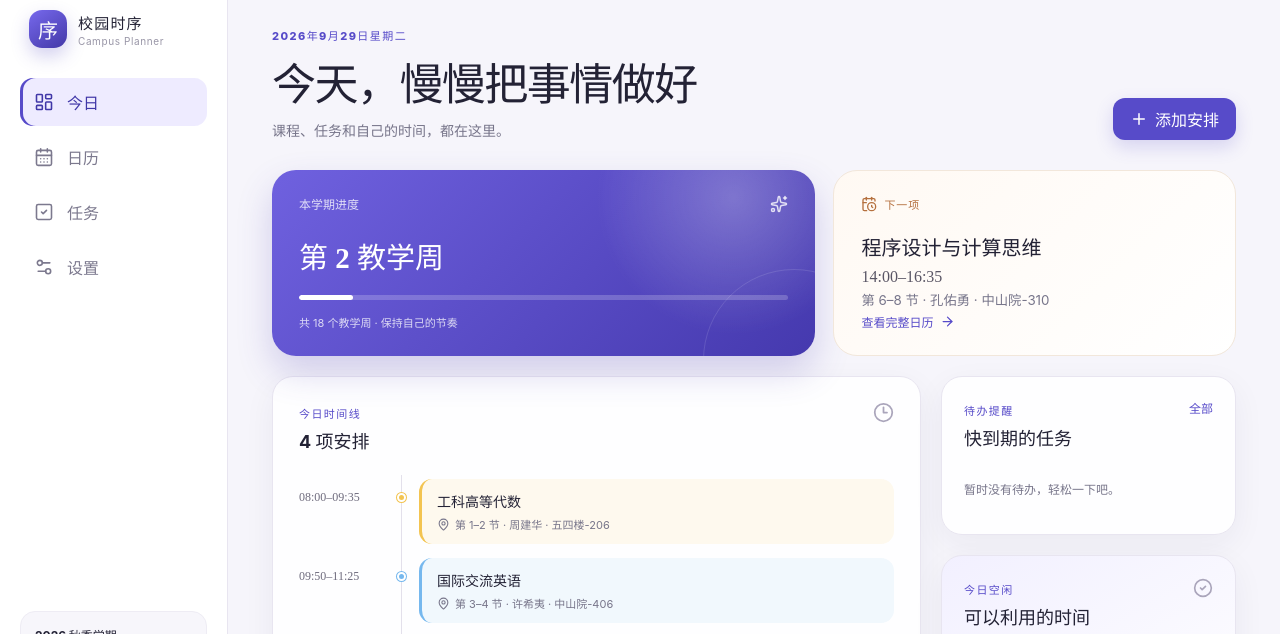
Test: 校园时间管理界面 › 新增个人安排后出现在今天时间线
Expected: the text "第 2 教学周" is shown, [299, 242, 444, 274]
Click the button "添加安排": (1174, 119) [1113, 98, 1236, 140]
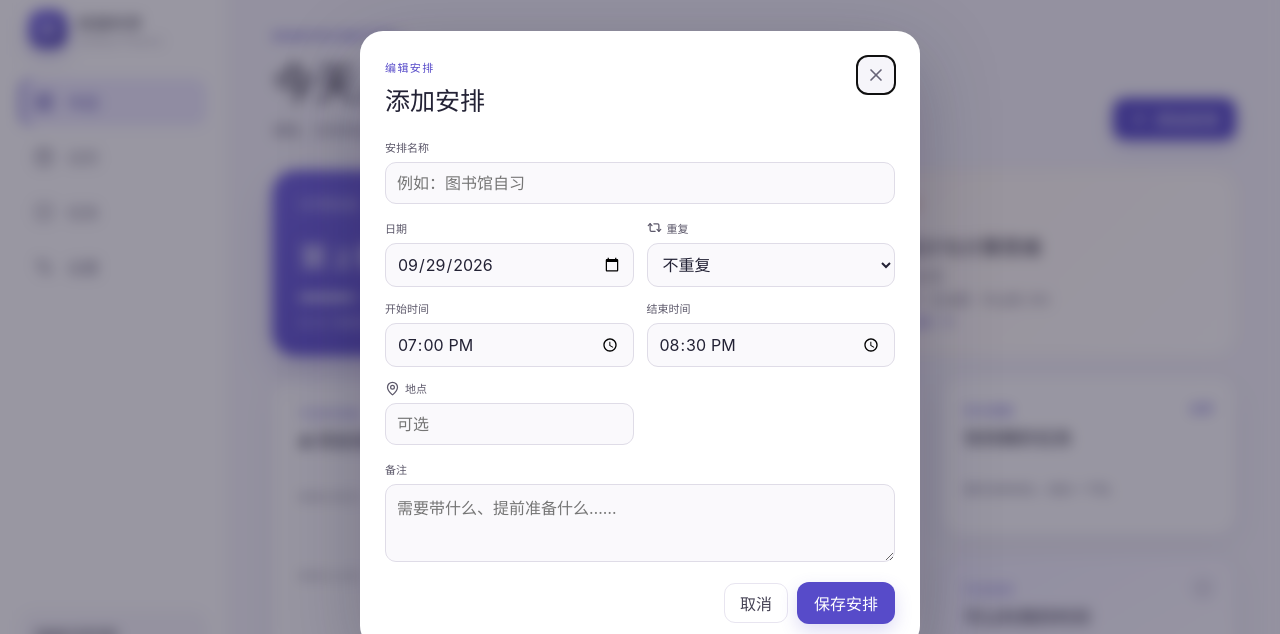
In the field labelled "安排名称": (640, 183) [385, 162, 895, 204], type "晚间自习"
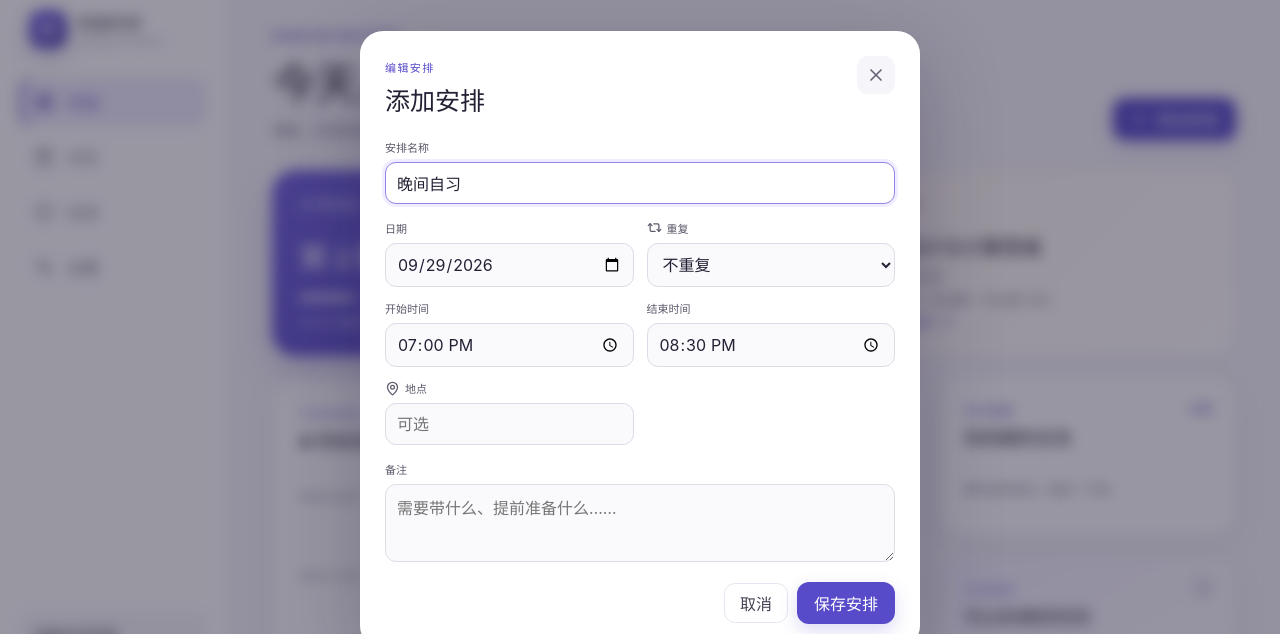
In the field labelled "地点": (509, 424) [385, 403, 634, 445], type "图书馆"
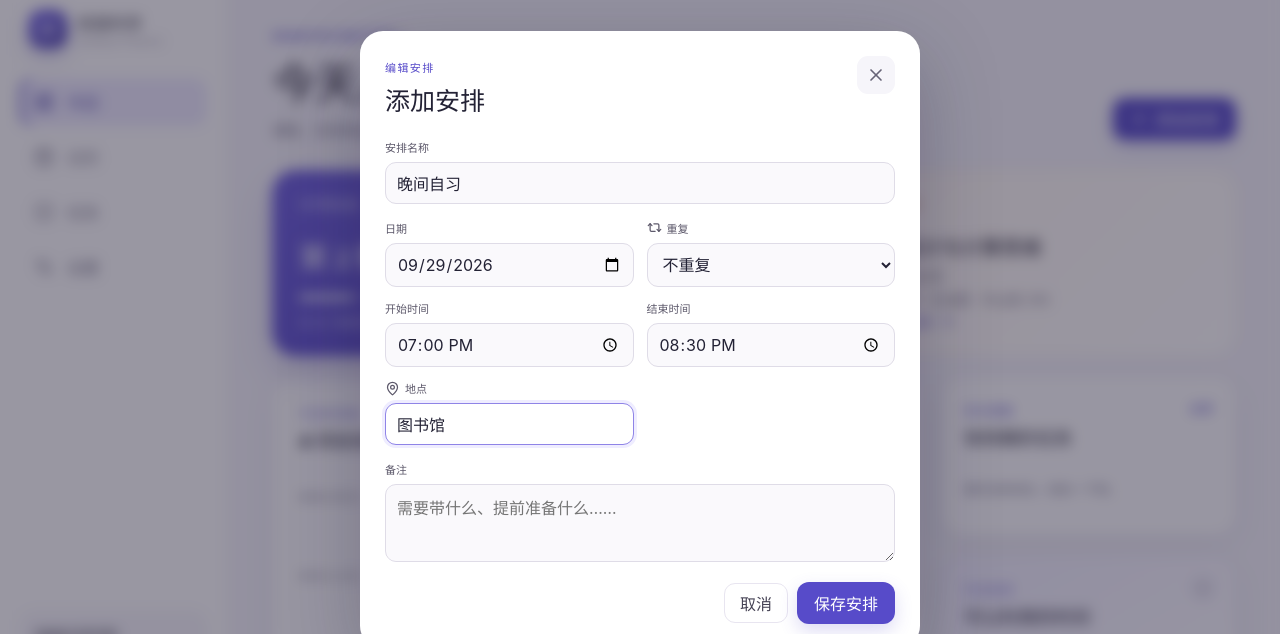
Click the button "保存安排": (846, 603) [797, 582, 895, 624]
(page scrolled)
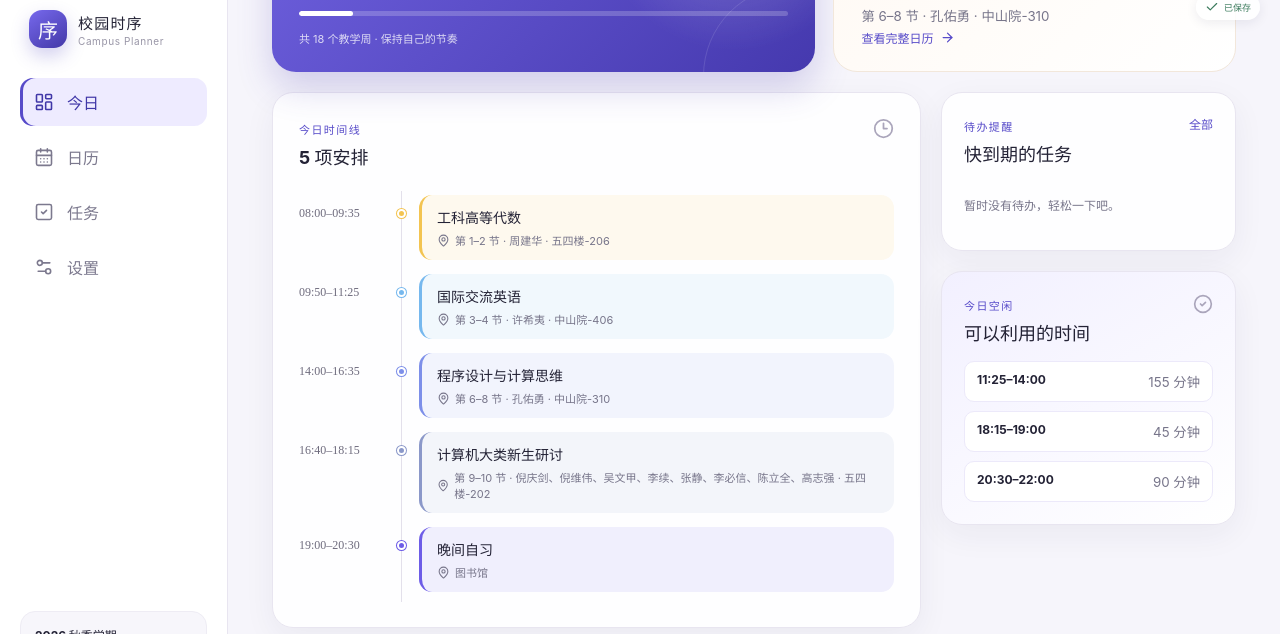
Expected: the text "晚间自习" is shown, [437, 541, 493, 558]
Expected: the text "图书馆" is shown, [437, 566, 488, 580]
